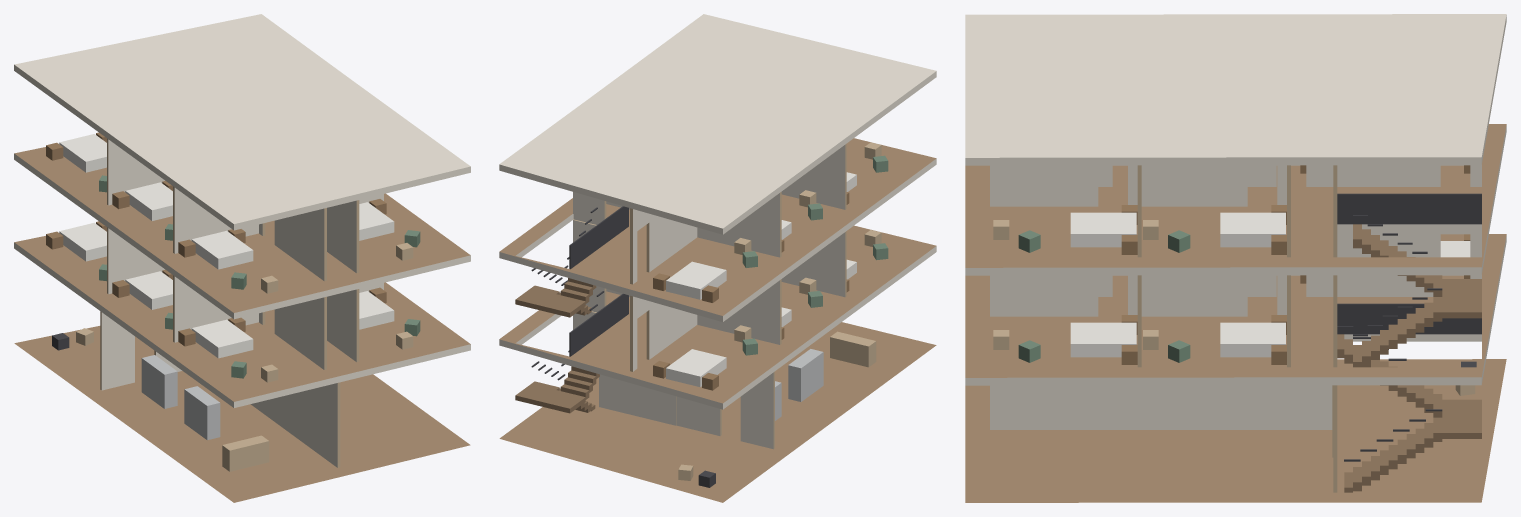
The model's file is interior.glb.
3 renders of one model, left to right at view 1: azimuth 30°, elevation 25°; view 2: azimuth 150°, elevation 25°; view 3: azimuth 270°, elevation 25°, orthographic. The views are drawn at different scales.
Parts seen in each view (by area): view 1: slabs, partitions, coarse-s1, coarse-s2, coarse-s0; view 2: slabs, partitions, stair, coarse-s1, coarse-s2, coarse-s0; view 3: slabs, partitions, stair, coarse-s1, coarse-s2.
Part boxes in pixels (x1,y1,x2,y2): slabs: [14, 14, 470, 502]; partitions: [100, 138, 383, 467]; coarse-s1: [46, 221, 420, 382]; coarse-s2: [46, 132, 420, 293]; coarse-s0: [52, 328, 269, 471]; slabs: [499, 14, 936, 502]; partitions: [573, 144, 846, 449]; stair: [515, 206, 628, 413]; coarse-s1: [653, 230, 888, 390]; coarse-s2: [653, 142, 888, 302]; coarse-s0: [678, 331, 876, 487]; slabs: [965, 14, 1506, 502]; partitions: [990, 165, 1481, 492]; stair: [1337, 193, 1481, 492]; coarse-s1: [993, 234, 1470, 364]; coarse-s2: [993, 165, 1470, 254].
Bounding box in the file's own units: 10.31 × 11.55 × 16.39.
